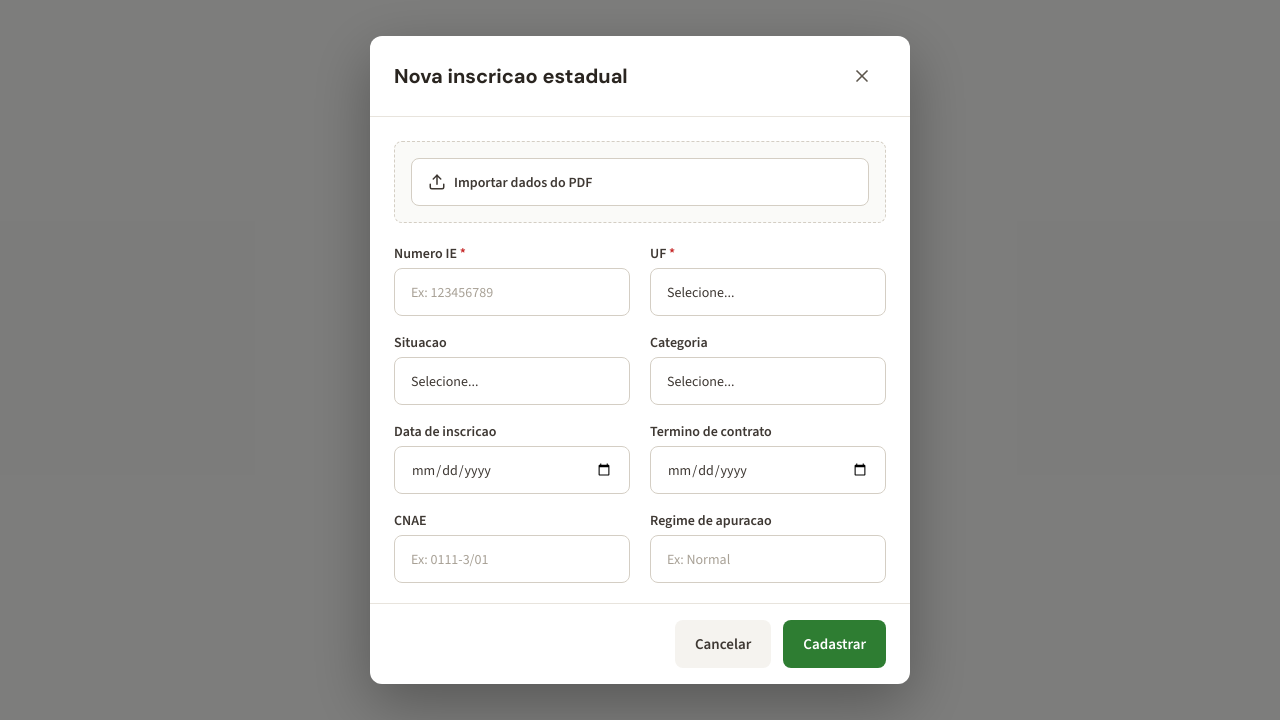
Test: IeFormModal › should validate IE number length
The width and height of the screenshot is (1280, 720).
Type "1234" into the field labelled "Numero IE *" at (512, 292), box x1=394 y1=268 x2=630 y2=316
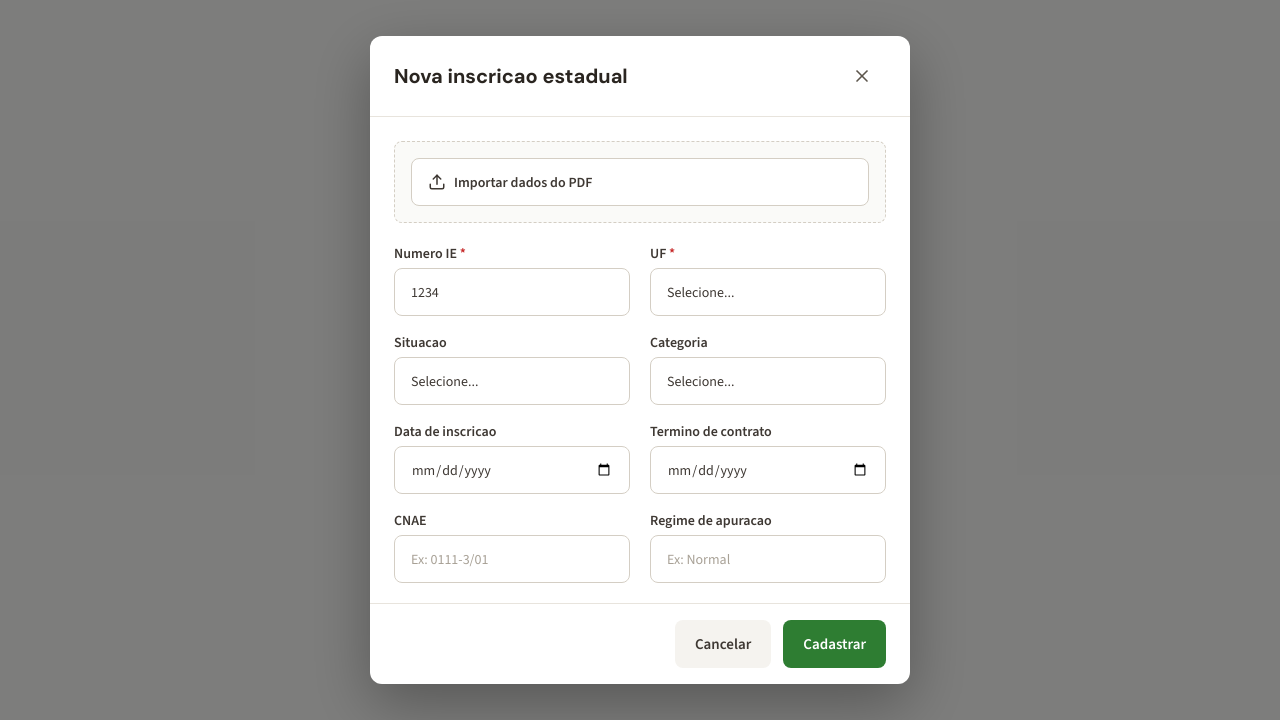
Leave the field labelled "Numero IE *", box x1=394 y1=268 x2=630 y2=316
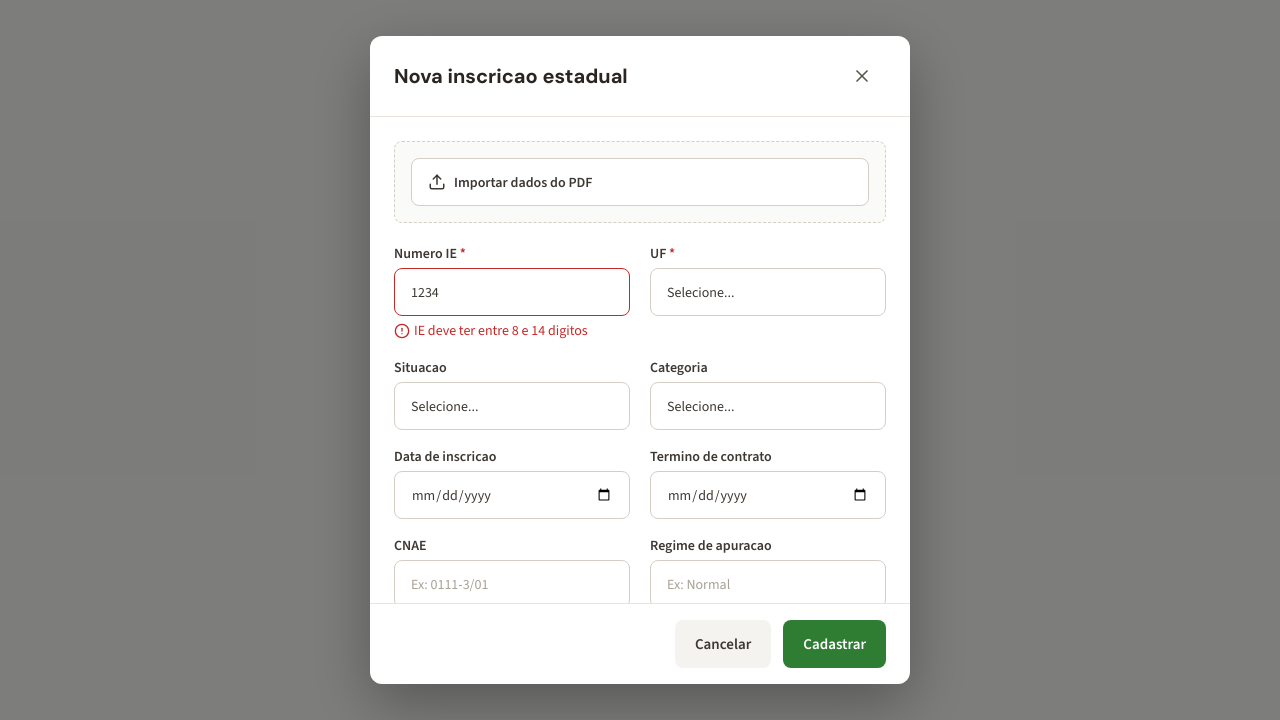
Now the text "IE deve ter entre 8 e 14 digitos" is shown, box x1=394 y1=321 x2=588 y2=340
